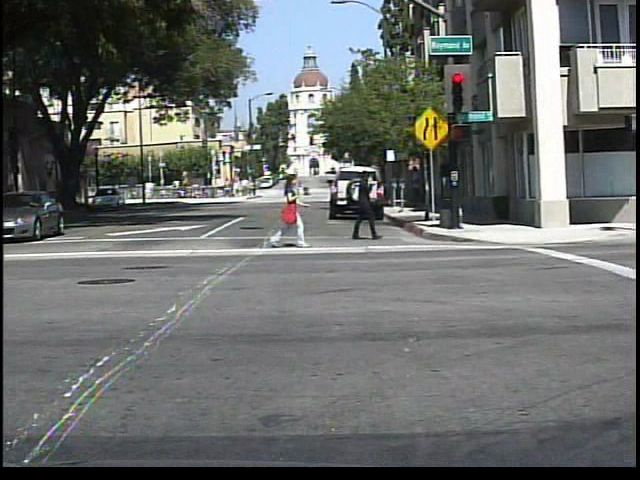person: (267, 168, 308, 249), (342, 167, 383, 243), (302, 184, 311, 198)
